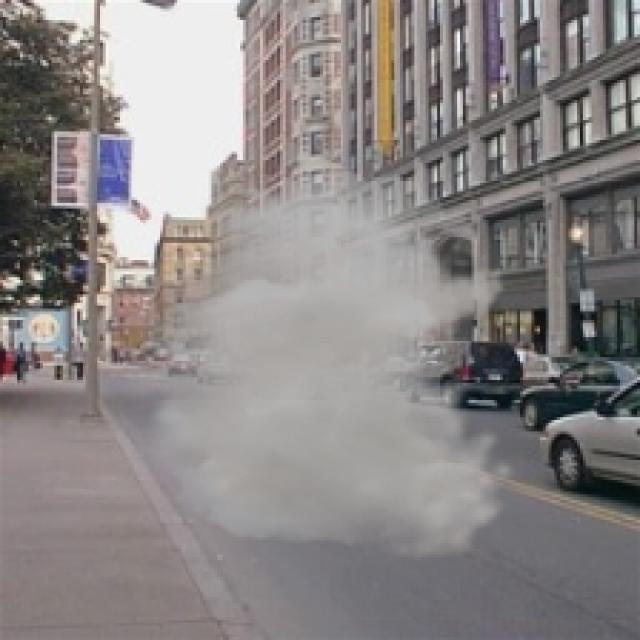Smoke: (91, 171, 518, 560)
